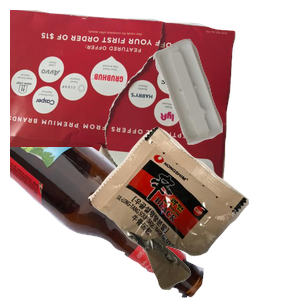glass: (10, 147, 207, 300)
paper: (10, 10, 238, 190)
plastic: (150, 36, 300, 173)
trash: (86, 124, 300, 300)
